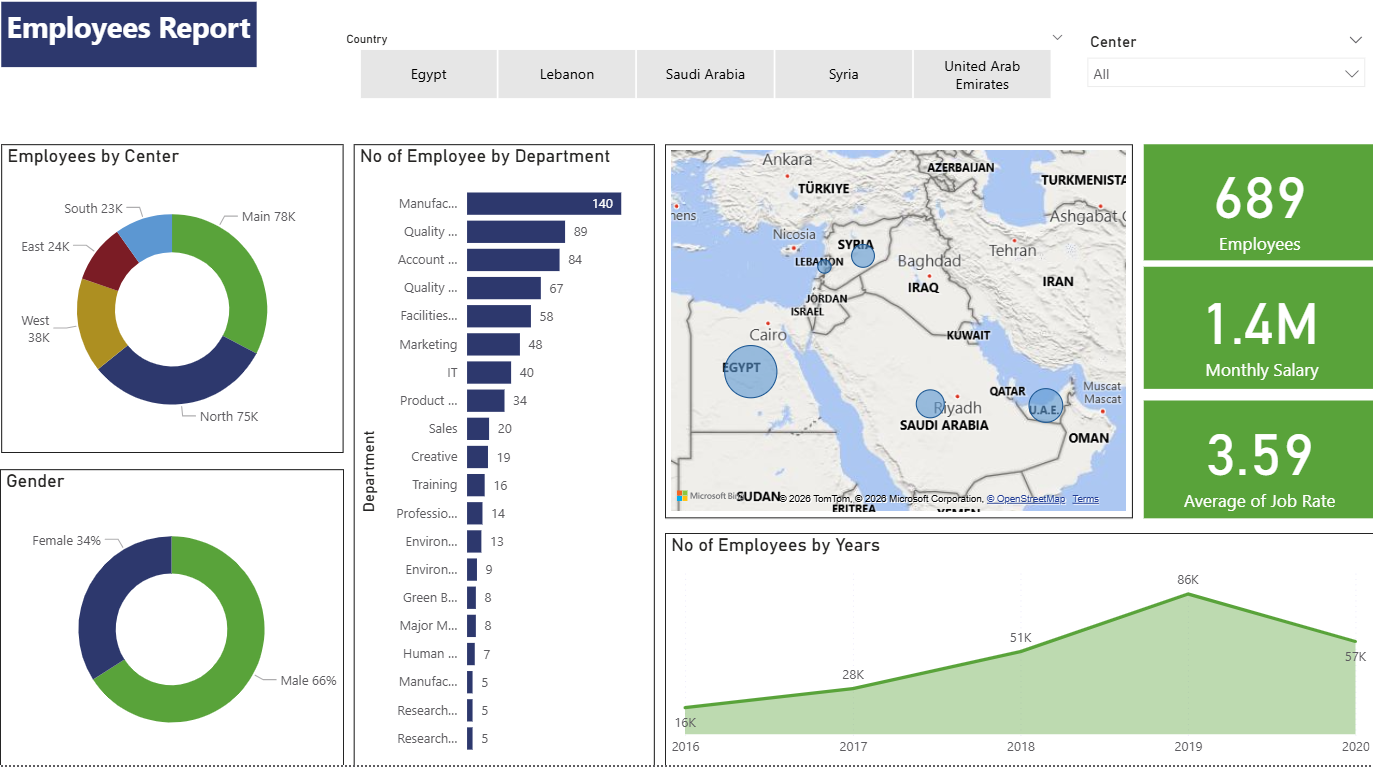

The page's visual inventory and layout, read from the dashboard file:
{"tool":"powerbi","page":{"name":"Page 1","canvas":[1280,720],"ordinal":0},"visuals":[{"type":"clusteredBarChart","title":"No of Employee by Department","fields":{"Category":["EmpTable.Department"],"Y":["CountNonNull(EmpTable.No)"]},"box":[329.1,140.7,280.2,580.2],"z":0},{"type":"donutChart","title":"Employees by  Center","fields":{"Category":["EmpTable.Center"],"Y":["Sum(EmpTable.No)"]},"box":[1.2,140.7,318.6,287.2],"z":1},{"type":"donutChart","title":"Gender","fields":{"Category":["EmpTable.Gender"],"Y":["Sum(EmpTable.No)"]},"box":[0,443,319.8,277.9],"z":2},{"type":"map","fields":{"Category":["EmpTable.Country"],"Size":["Sum(EmpTable.No)"]},"box":[618.6,140.7,434.9,347.7],"z":3},{"type":"areaChart","title":"No of Employees by Years","fields":{"Y":["Sum(EmpTable.No)"],"Category":["EmpTable.Start Date.Variation.Date Hierarchy.Year"]},"box":[618.6,502.3,661.6,218.6],"z":4},{"type":"card","fields":{"Values":["CountNonNull(EmpTable.No)"]},"box":[1064,140.7,216.3,108.1],"z":5},{"type":"card","fields":{"Values":["Sum(EmpTable.Monthly Salary)"]},"box":[1064,254.7,216.3,114],"z":6},{"type":"card","fields":{"Values":["Avg(EmpTable.Job Rate)"]},"box":[1064,379.1,216.3,109.3],"z":7},{"type":"slicer","fields":{"Values":["EmpTable.Country"]},"box":[309.3,31.4,691.9,73.3],"z":8},{"type":"slicer","fields":{"Values":["EmpTable.Center"]},"box":[1001.2,31.4,279.1,69.8],"z":9},{"type":"textbox","box":[1.2,8.1,237.2,60.5],"z":10}]}

Visuals, with their boxes in screenshot pixels (x1, y1, x2, y2), scaled from the page's 1280x720 canvas onto the 1373x767 screenshot:
"No of Employee by Department" clusteredBarChart: (left=353, top=150, right=654, bottom=766)
"Employees by  Center" donutChart: (left=1, top=150, right=343, bottom=456)
"Gender" donutChart: (left=0, top=472, right=343, bottom=766)
map - EmpTable.Country x Sum(EmpTable.No): (left=664, top=150, right=1130, bottom=520)
"No of Employees by Years" areaChart: (left=664, top=535, right=1372, bottom=766)
card - CountNonNull(EmpTable.No): (left=1141, top=150, right=1372, bottom=265)
card - Sum(EmpTable.Monthly Salary): (left=1141, top=271, right=1372, bottom=393)
card - Avg(EmpTable.Job Rate): (left=1141, top=404, right=1372, bottom=520)
slicer - EmpTable.Country: (left=332, top=33, right=1074, bottom=112)
slicer - EmpTable.Center: (left=1074, top=33, right=1372, bottom=108)
textbox: (left=1, top=9, right=256, bottom=73)
